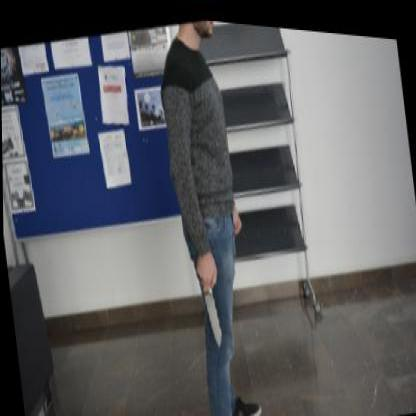knife: (200, 270, 224, 344)
